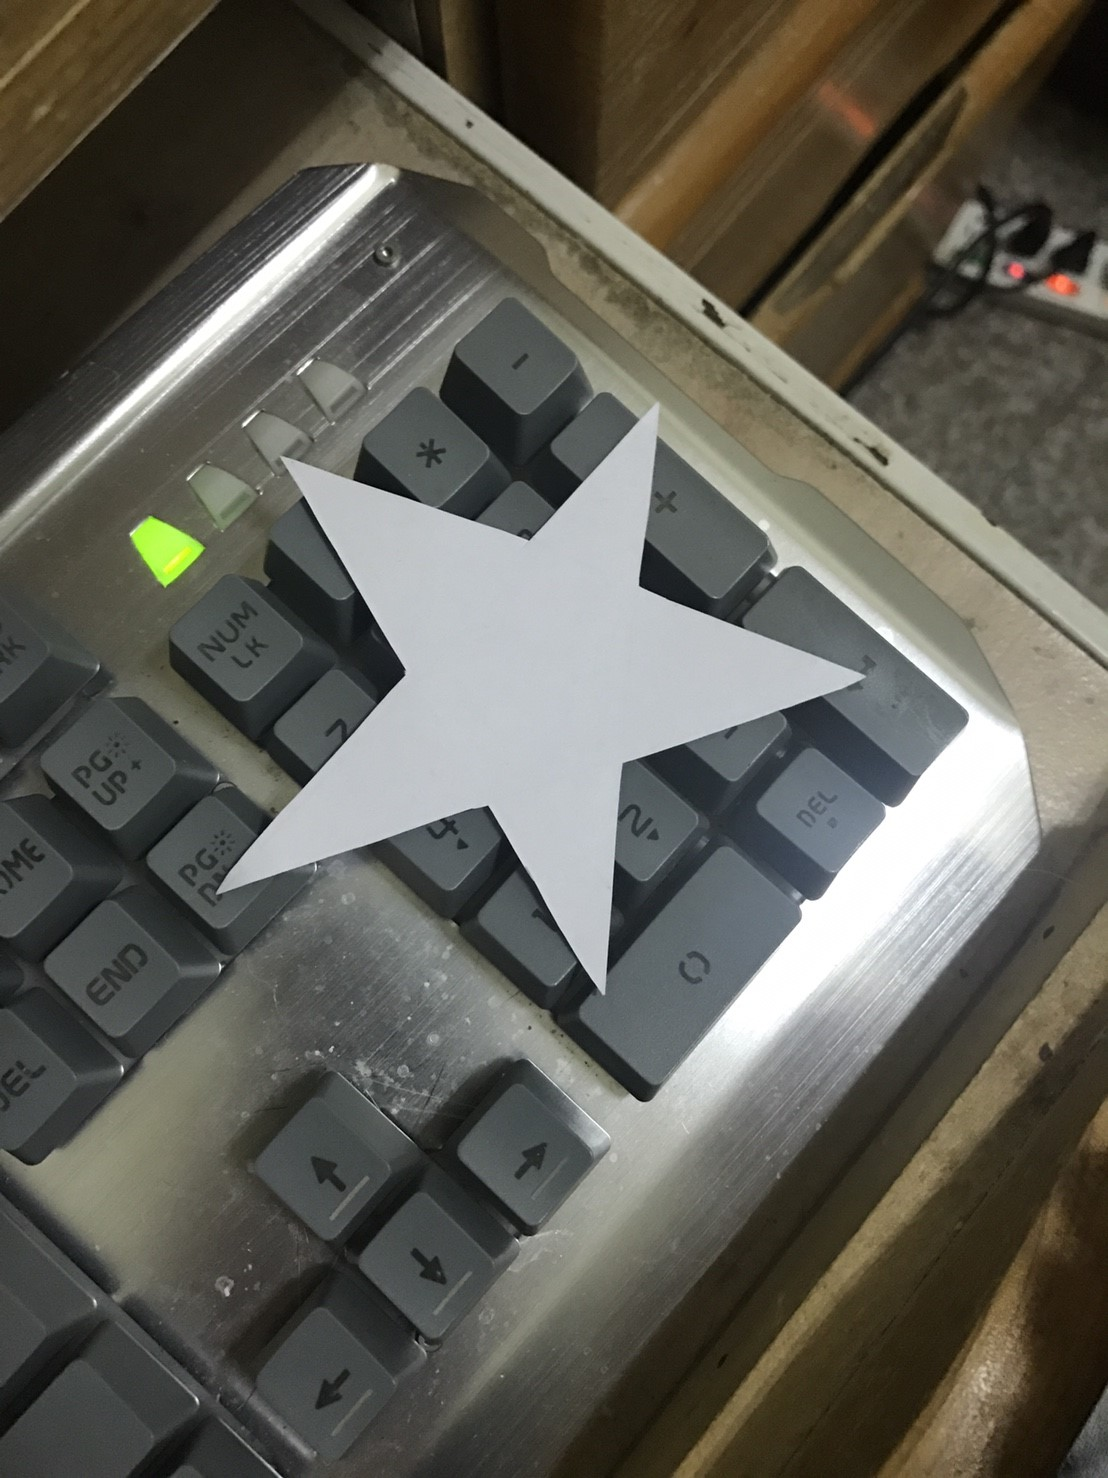star: (203, 388, 901, 1045)
